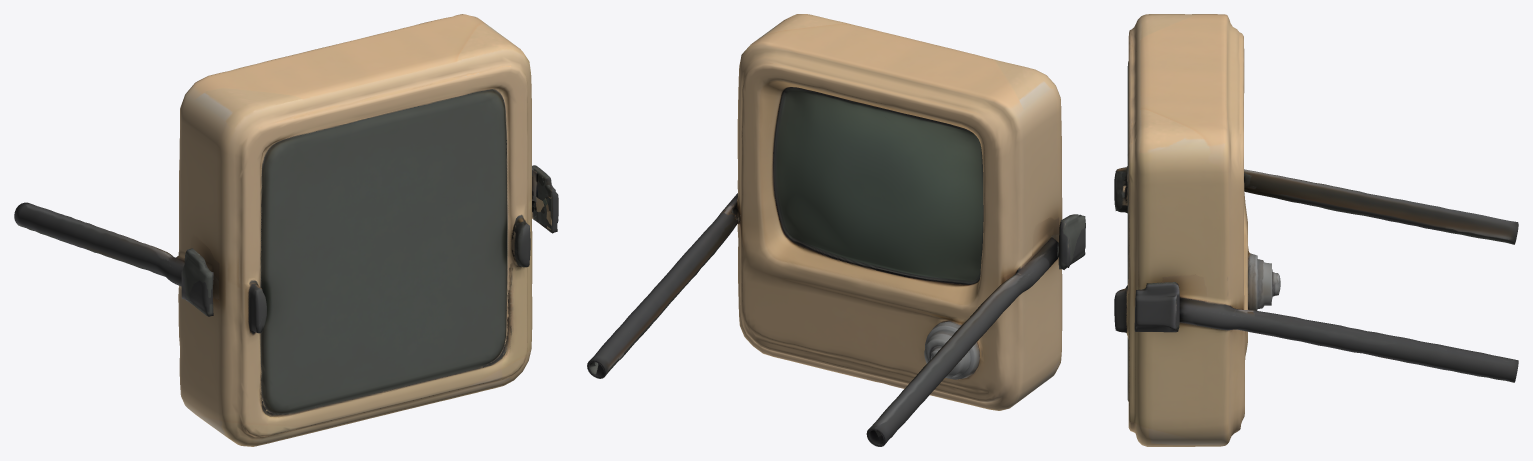
File: Radar.fbx
3 renders of one model, left to right at view 1: azimuth 30°, elevation 25°; view 2: azimuth 150°, elevation 25°; view 3: azimuth 270°, elevation 25°, orthographic. The views are drawn at different scales.
Visible parts, largest first — view 1: input; view 2: input; view 3: input.
Boxes of the visible parts, x1=… form: input: x1=14, y1=14, x2=558, y2=446; input: x1=587, y1=14, x2=1085, y2=446; input: x1=1114, y1=14, x2=1518, y2=446.
Bounding box in the file's own units: 167 × 153 × 177.
1 material, 1 textured.
